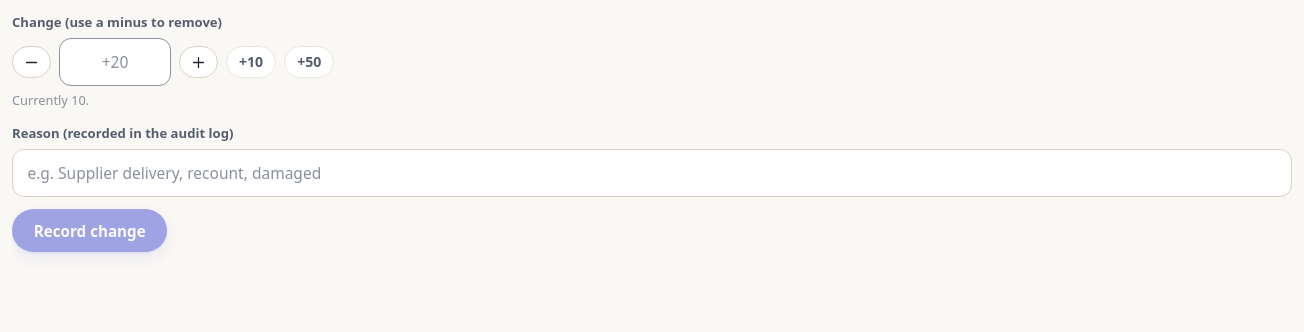
Test: AdjustStockForm › posts delta and reason, then refreshes the table (AC-INVENTORY-2)
The image size is (1304, 332).
In the field labelled "Change (use a minus to remove)": (115, 62) [59,38,171,86], type "20"
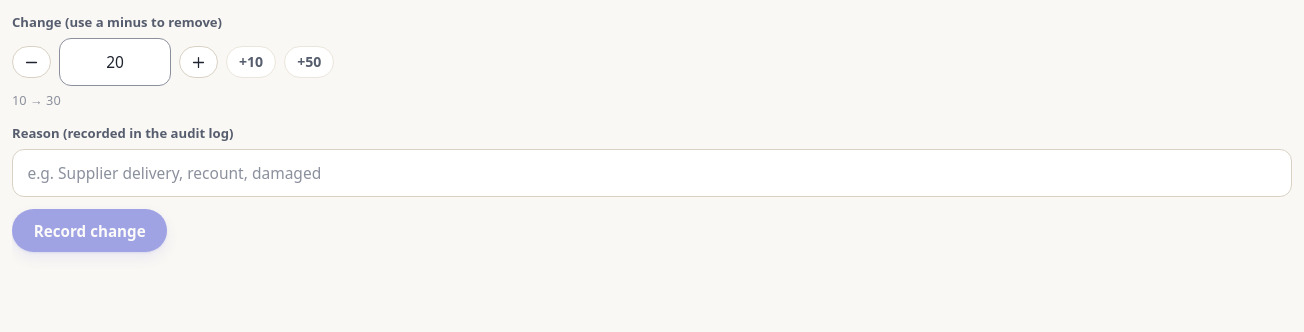
In the field labelled "Reason (recorded in the audit log)": (652, 173) [12,149,1292,197], type "restock"
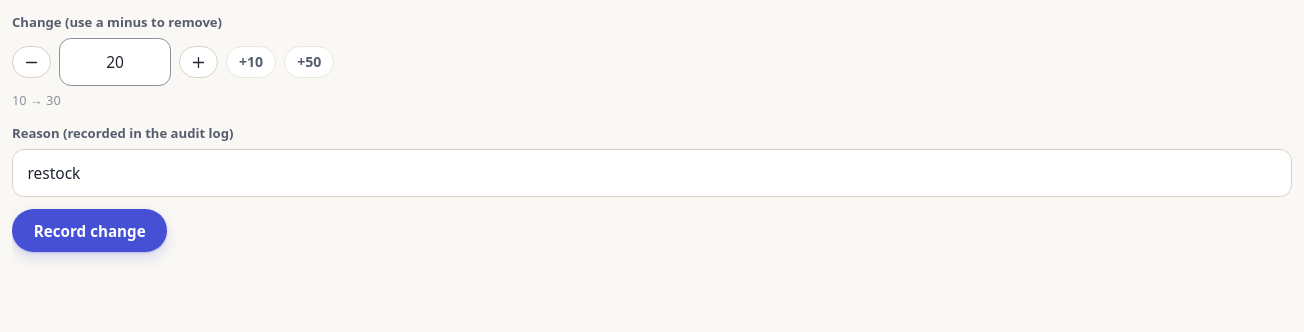
Click the button "Record change": (90, 231) [12,209,168,252]
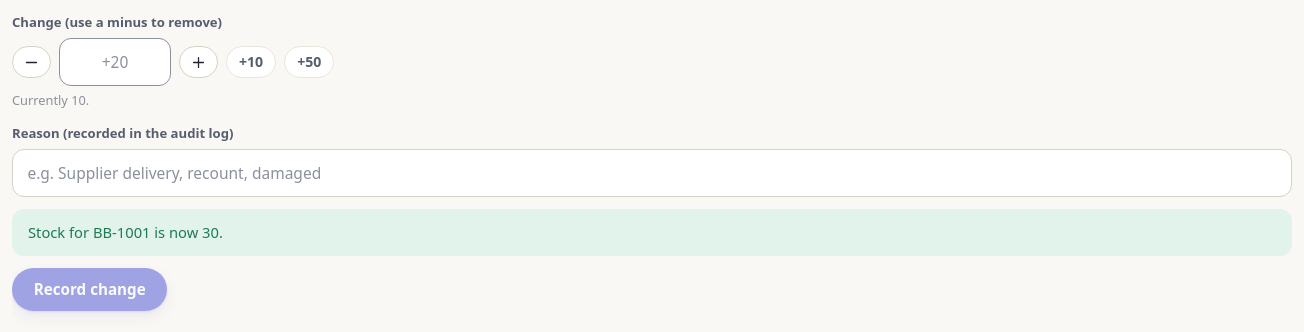
Check: the message reads "Stock for BB-1001 is now 30.", box [28,222,223,242]
